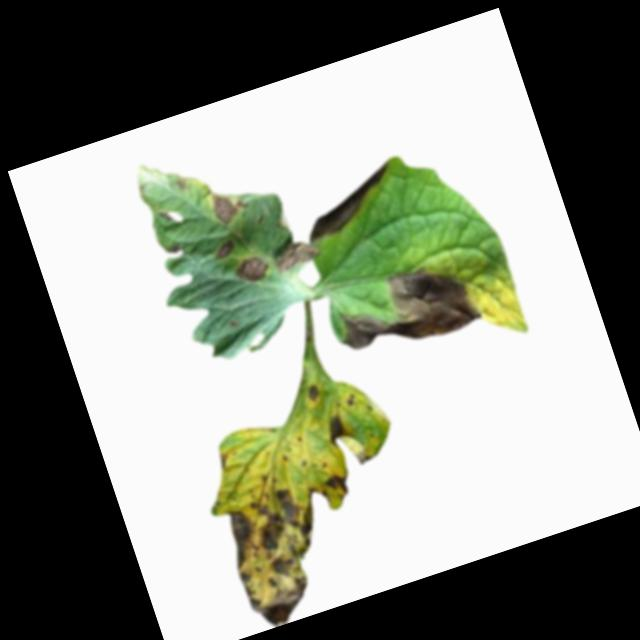Early_blight: (218, 477, 353, 632), (324, 249, 483, 366), (292, 159, 404, 243), (270, 233, 323, 276), (207, 182, 253, 228), (233, 250, 273, 286), (322, 408, 356, 447), (322, 470, 355, 501), (210, 236, 238, 262), (305, 381, 324, 404), (215, 449, 231, 469), (173, 174, 190, 192)
